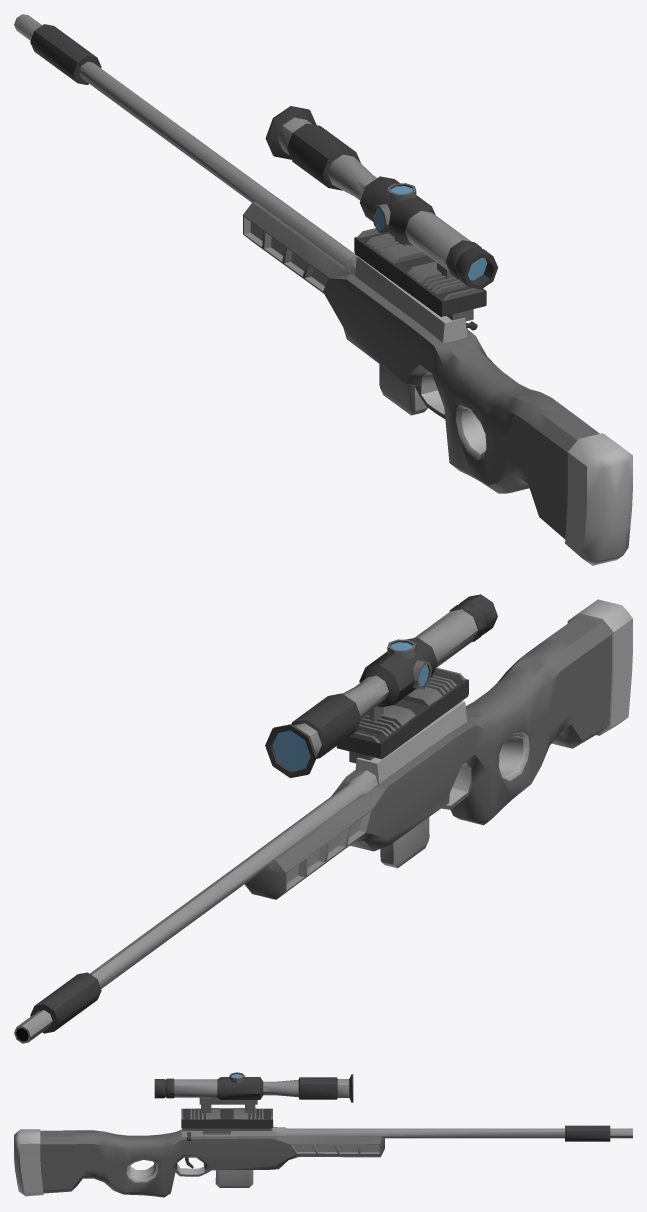
File: wpn_sniper.glb
3 views of the same model, one above another, from view 1: azimuth 30°, elevation 25°; view 2: azimuth 150°, elevation 25°; view 3: azimuth 270°, elevation 25° (orthographic). The views are drawn at different scales.
Visible parts, largest first — view 1: wpn_sniper; view 2: wpn_sniper; view 3: wpn_sniper.
Boxes of the visible parts, left/top/right/bottom form: wpn_sniper: left=14, top=14, right=632, bottom=565; wpn_sniper: left=14, top=594, right=632, bottom=1043; wpn_sniper: left=14, top=1072, right=632, bottom=1197.
Bounding box in the file's own units: 0.0683 × 0.2671 × 1.25.
1 material, 1 textured.
